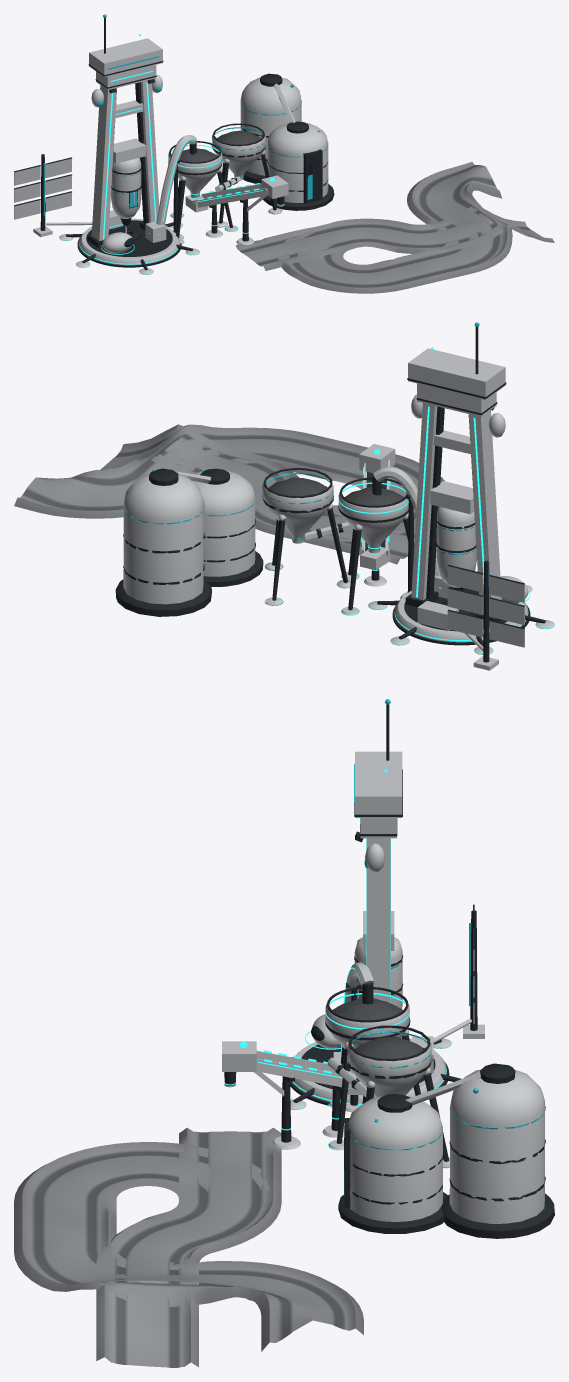
The model's file is mine_game.glb.
3 renders of one model, top to bottom at view 1: azimuth 30°, elevation 25°; view 2: azimuth 150°, elevation 25°; view 3: azimuth 270°, elevation 25°, orthographic. The views are drawn at different scales.
Visible parts, largest first — view 1: Base_Paint, Silo, Tier_12, Tier_08, Tier_05, Tier_20, Rig, Base_GlowCyan; view 2: Base_Paint, Tier_12, Silo, Tier_08, Tier_05, Tier_20, Rig, Base_GlowCyan; view 3: Base_Paint, Tier_12, Silo, Tier_05, Tier_20, Tier_08, Rig, Base_GlowCyan.
Part boxes in pixels (box(x1,y1,x2,y2)): Base_Paint: box(59, 65, 554, 293); Silo: box(263, 121, 334, 210); Tier_12: box(240, 73, 301, 183); Tier_08: box(14, 154, 92, 237); Tier_05: box(211, 123, 282, 227); Tier_20: box(88, 14, 163, 107); Rig: box(111, 138, 146, 233); Base_GlowCyan: box(59, 34, 283, 274); Base_Paint: box(14, 383, 554, 654); Tier_12: box(115, 468, 211, 616); Silo: box(192, 468, 263, 586); Tier_08: box(447, 560, 524, 670); Tier_05: box(262, 468, 352, 606); Tier_20: box(407, 322, 506, 437); Rig: box(430, 481, 476, 590); Base_GlowCyan: box(338, 347, 554, 654); Base_Paint: box(14, 818, 461, 1367); Tier_12: box(405, 1063, 554, 1238); Silo: box(338, 1094, 447, 1233); Tier_05: box(327, 1025, 449, 1168); Tier_20: box(354, 699, 402, 872); Tier_08: box(433, 904, 484, 1042); Rig: box(354, 911, 403, 1008); Base_GlowCyan: box(224, 769, 451, 1149).
Size of the model in its own units: 41.55 by 23.82 by 29.52.
